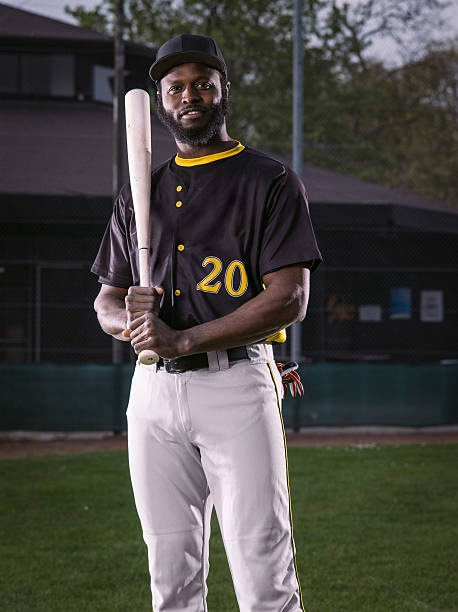bita: (124, 80, 159, 363)
